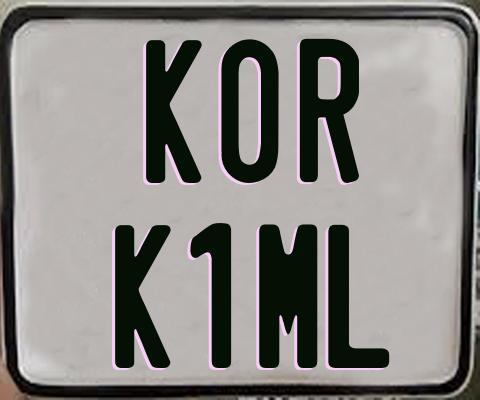0: (221, 37, 283, 186)
1: (190, 220, 236, 367)
K: (145, 40, 206, 187), (114, 223, 172, 367)
L: (326, 223, 390, 369)
M: (258, 221, 322, 368)
R: (299, 39, 362, 188)
